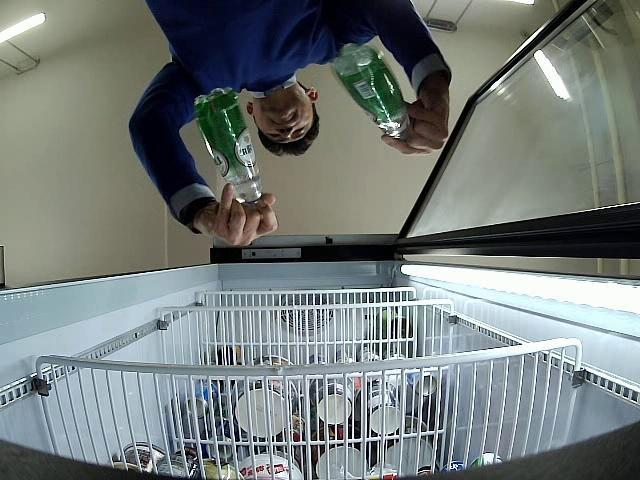18_trevi: (194, 85, 264, 204), (330, 42, 412, 140)
